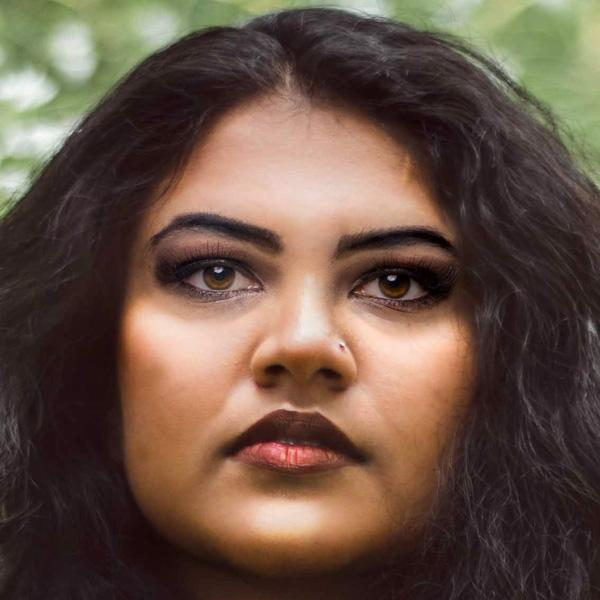Eyes: (154, 236, 276, 314), (339, 249, 459, 323)
